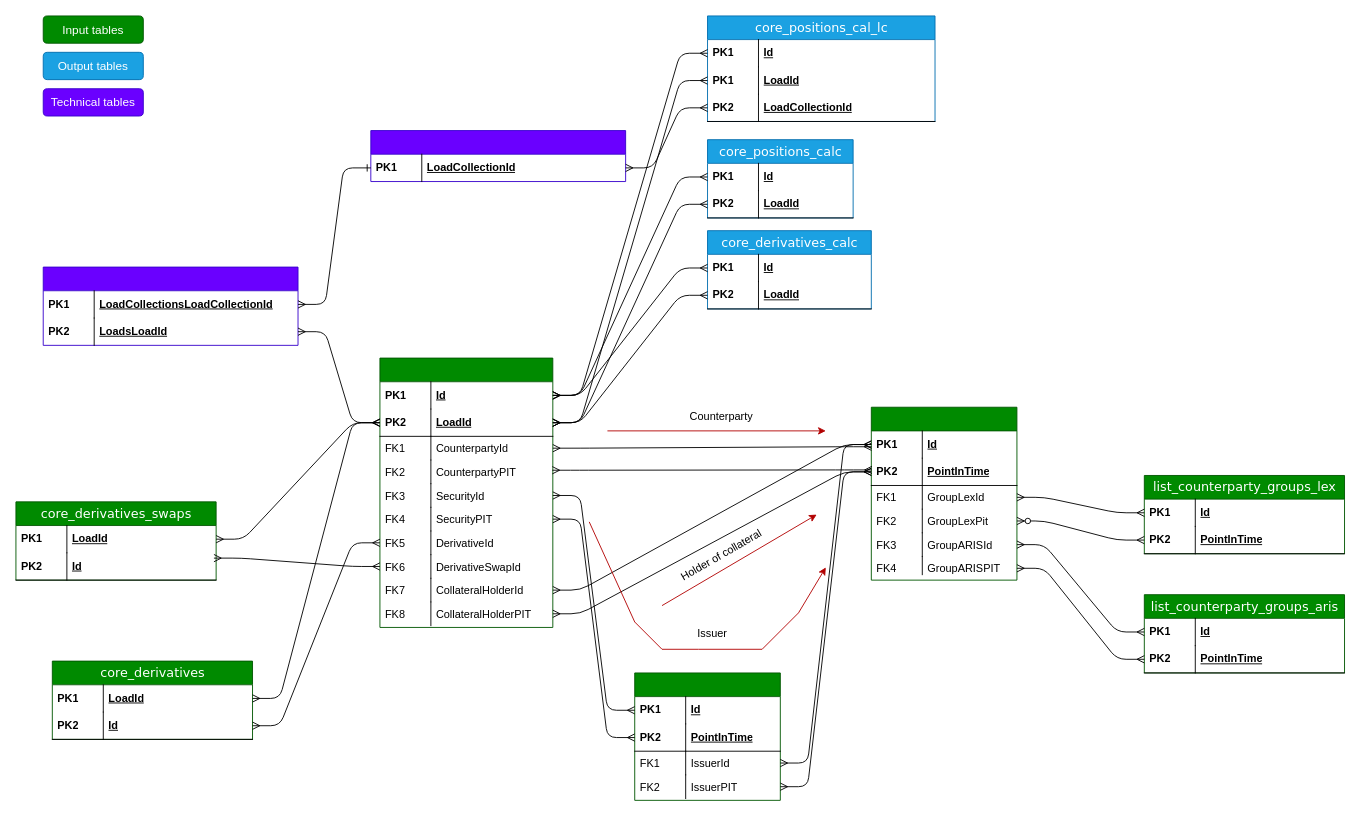
Some shapes in this 1360 by 817 pixel diagram are drawn without their labels. The shapes that lost their labels are listed below. From the top down, each one's box as (x1, y1, x2, y2) in pixels, then its label:
(370, 130, 626, 182): core_load_collections
(42, 266, 298, 345): core_loads_loads_collection
(379, 357, 553, 627): core_positions
(870, 406, 1017, 580): list_counterparties
(634, 672, 780, 800): list_securities
